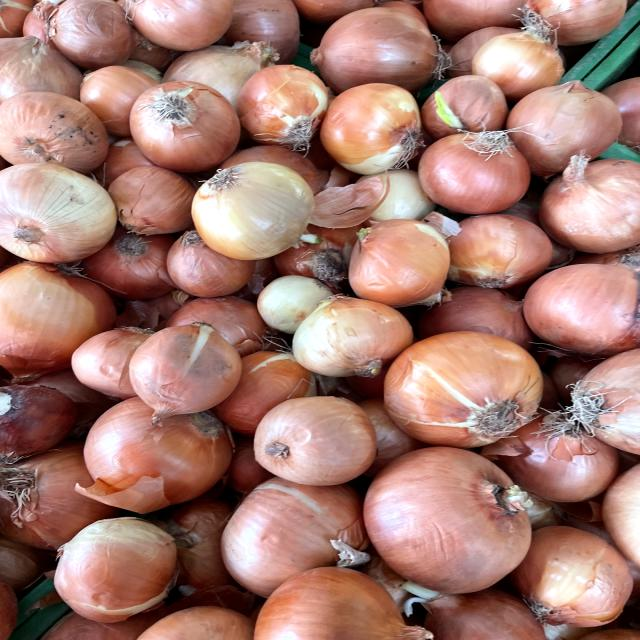onion: (358, 439, 538, 600), (381, 329, 544, 449), (44, 505, 187, 625), (123, 317, 248, 427), (0, 159, 121, 266), (186, 159, 314, 260), (336, 209, 464, 308), (251, 389, 380, 486), (312, 76, 432, 178), (411, 121, 536, 216), (438, 203, 562, 298), (289, 291, 415, 383), (126, 77, 242, 171), (240, 55, 332, 155)
